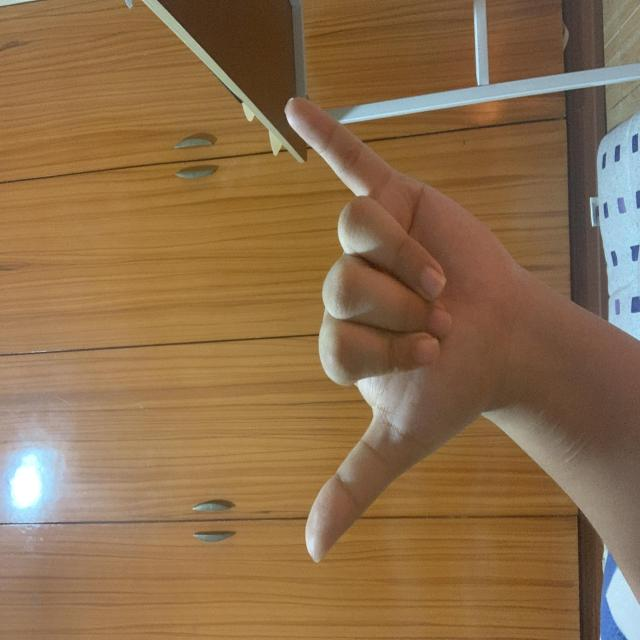Y: (95, 282, 566, 518)
